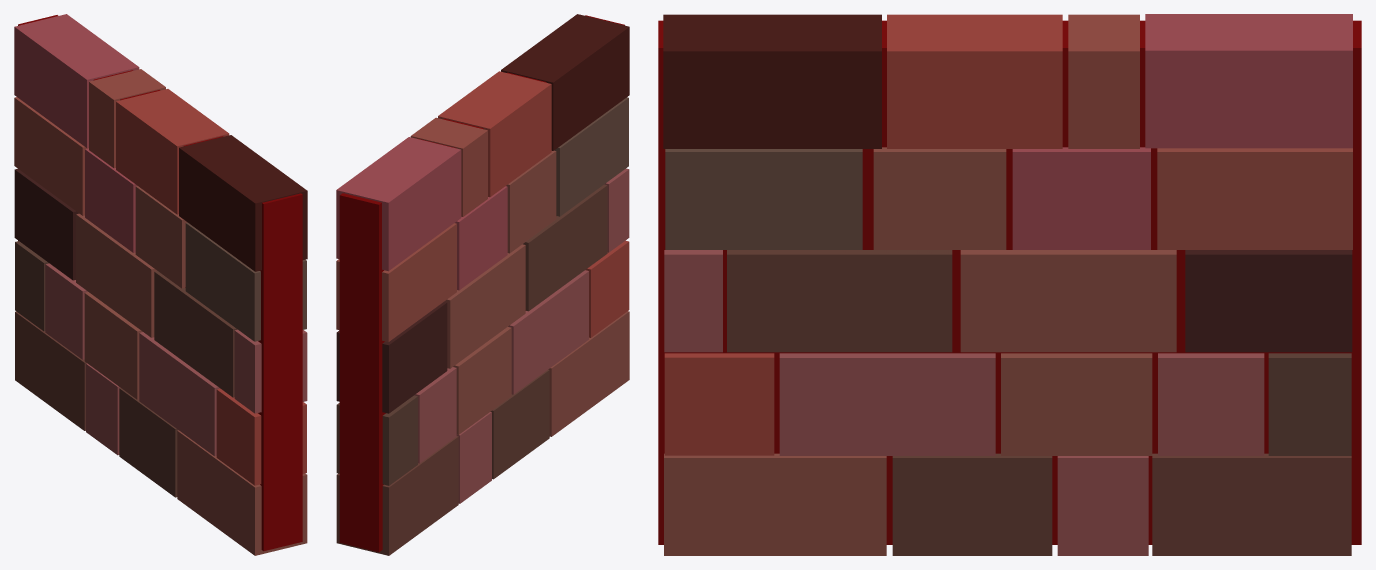
The model's file is стена кирпич(фикс).fbx.
3 renders of one model, left to right at view 1: azimuth 30°, elevation 25°; view 2: azimuth 150°, elevation 25°; view 3: azimuth 270°, elevation 25°, orthographic. The views are drawn at different scales.
Parts seen in each view (by area): view 1: Cube.002, Cube.006, Cube.017, Cube.016, Cube, Cube.012, Cube.005, Cube.004, Cube.007, Cube.013, Cube.010, Cube.011 (+10 smaller); view 2: Cube.002, Cube.017, Cube.006, Cube.016, Cube.012, Cube.010, Cube, Cube.004, Cube.007, Cube.013, Cube.005, Cube.011 (+10 smaller); view 3: Cube.006, Cube.017, Cube.016, Cube.012, Cube, Cube.007, Cube.004, Cube.002, Cube.010, Cube.005, Cube.013, Cube.011 (+10 smaller).
Boxes of the visible parts, x1,y1,x2,y2 form: Cube.002: [18, 15, 302, 551]; Cube.006: [179, 135, 307, 271]; Cube.017: [14, 14, 139, 147]; Cube.016: [116, 89, 229, 214]; Cube: [177, 430, 307, 555]; Cube.012: [154, 271, 237, 397]; Cube.005: [185, 222, 306, 341]; Cube.004: [76, 213, 157, 337]; Cube.007: [139, 332, 219, 456]; Cube.013: [14, 97, 88, 215]; Cube.010: [15, 311, 86, 430]; Cube.011: [14, 169, 78, 280]; Cube.002: [339, 15, 624, 552]; Cube.017: [336, 137, 461, 271]; Cube.006: [501, 14, 629, 150]; Cube.016: [438, 71, 551, 197]; Cube.012: [523, 184, 607, 311]; Cube.010: [336, 436, 458, 555]; Cube: [548, 311, 629, 436]; Cube.004: [444, 244, 525, 368]; Cube.007: [508, 270, 588, 394]; Cube.013: [336, 223, 456, 342]; Cube.005: [554, 97, 628, 216]; Cube.011: [336, 302, 447, 413]; Cube.006: [663, 14, 881, 148]; Cube.017: [1145, 14, 1352, 148]; Cube.016: [887, 14, 1062, 148]; Cube.012: [727, 250, 952, 352]; Cube: [664, 453, 886, 555]; Cube.007: [779, 353, 995, 455]; Cube.004: [960, 250, 1176, 352]; Cube.002: [658, 20, 1361, 544]; Cube.010: [1152, 453, 1351, 555]; Cube.005: [665, 149, 862, 249]; Cube.013: [1157, 148, 1352, 249]; Cube.011: [1185, 250, 1352, 352].
Bounding box in the file's own units: 89.96 × 581 × 732.
